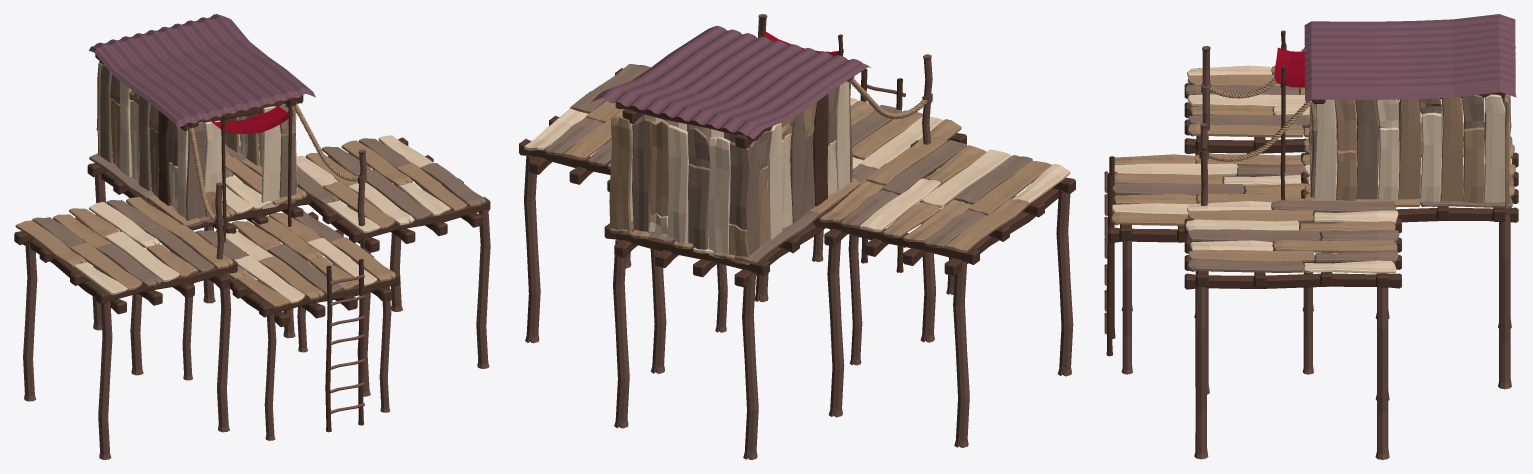
File: texture River Shack.fbx
3 renders of one model, left to right at view 1: azimuth 30°, elevation 25°; view 2: azimuth 150°, elevation 25°; view 3: azimuth 270°, elevation 25°, orthographic. The views are drawn at different scales.
Parts seen in each view (by area): view 1: Cube.001, Circle.002, Circle.004; view 2: Cube.001, Circle.004; view 3: Cube.001, Circle.002, Circle.004.
Boxes of the visible parts, x1=… form: Cube.001: x1=14, y1=14, x2=490, y2=459; Circle.002: x1=294, y1=102, x2=358, y2=181; Circle.004: x1=190, y1=127, x2=215, y2=221; Cube.001: x1=519, y1=14, x2=1075, y2=459; Circle.004: x1=851, y1=78, x2=927, y2=119; Cube.001: x1=1104, y1=14, x2=1518, y2=459; Circle.002: x1=1209, y1=100, x2=1312, y2=161; Circle.004: x1=1210, y1=47, x2=1304, y2=98.
Size of the model in its own units: 4720 by 3281 by 3940.
